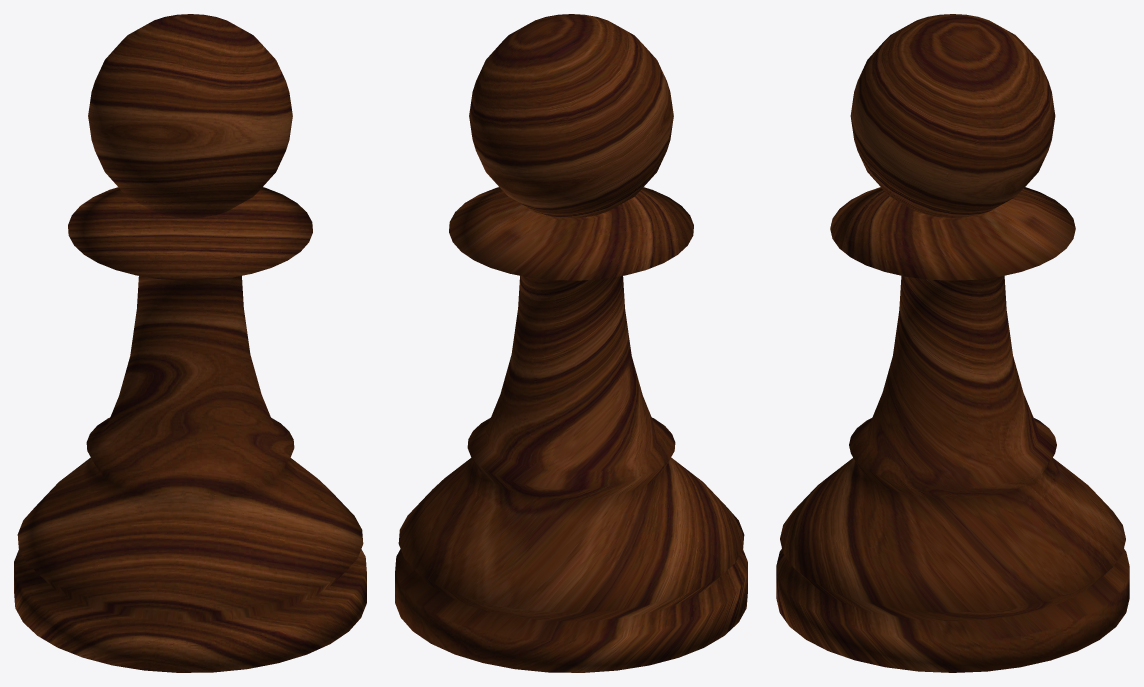
The model's file is pawn-dark.obj.
The picture shows the model from 3 angles, left to right: view 1: azimuth 30°, elevation 25°; view 2: azimuth 150°, elevation 25°; view 3: azimuth 270°, elevation 25°; orthographic projection.
Visible parts, largest first — view 1: pawn_Cylinder; view 2: pawn_Cylinder; view 3: pawn_Cylinder.
Part boxes in pixels (box(x1,y1,x2,y2)): pawn_Cylinder: box(14, 14, 366, 672); pawn_Cylinder: box(395, 14, 747, 672); pawn_Cylinder: box(776, 14, 1129, 672).
Bounding box in the file's own units: 1 × 1.8 × 1.
